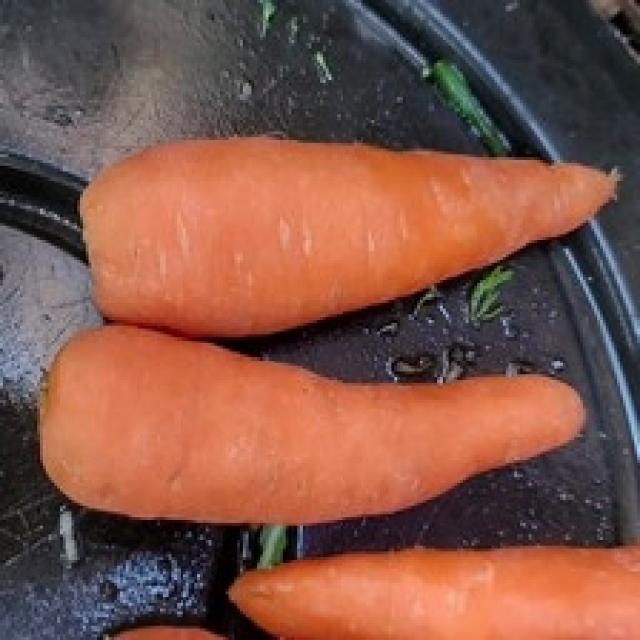carrot: (37, 323, 577, 520), (77, 134, 611, 331), (226, 543, 634, 634)
